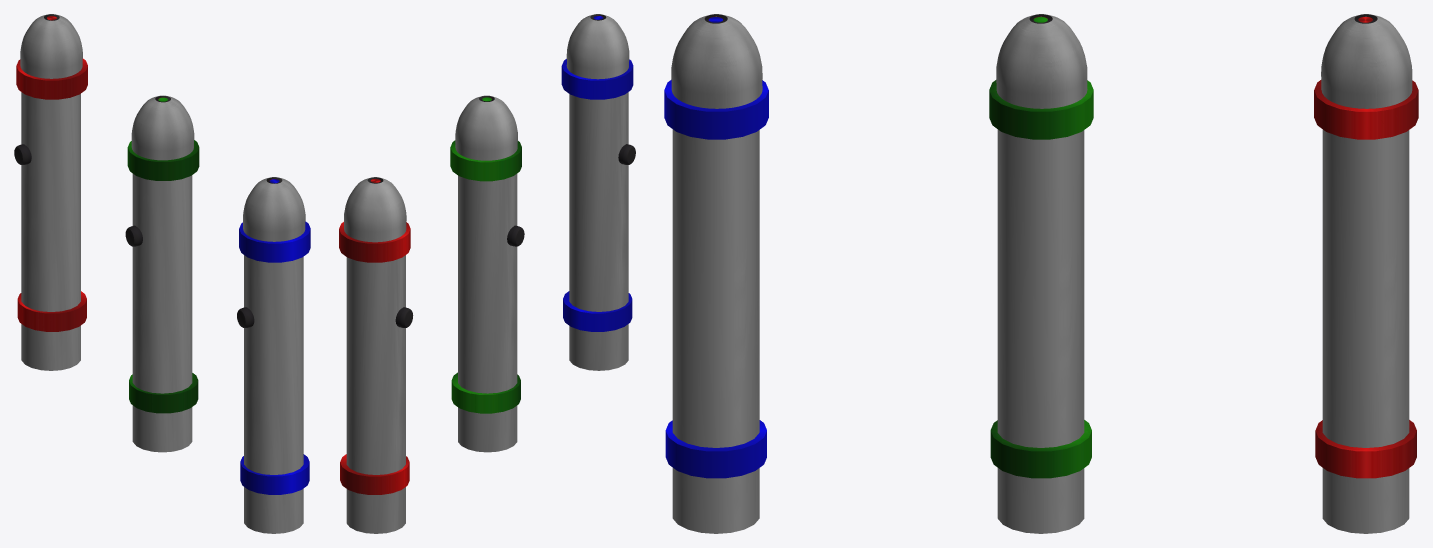
The model's file is lasers juntos.FBX.
The picture shows the model from 3 angles, left to right: view 1: azimuth 30°, elevation 25°; view 2: azimuth 150°, elevation 25°; view 3: azimuth 270°, elevation 25°; orthographic projection. The views are drawn at different scales.
Parts seen in each view (by area): view 1: Laser Cuerpo003, Laser Cuerpo, Laser Cuerpo004, anillo superior, anillo superior003, Anillo inferior, Anillo inferior003; view 2: Laser Cuerpo003, Laser Cuerpo004, Laser Cuerpo, anillo superior, anillo superior003, Anillo inferior003, Anillo inferior; view 3: Laser Cuerpo003, Laser Cuerpo004, Laser Cuerpo, anillo superior003, anillo superior, Anillo inferior, Anillo inferior003.
Part boxes in pixels (x1=…): Laser Cuerpo003: x1=16, y1=14, x2=87, y2=370; Laser Cuerpo: x1=131, y1=95, x2=194, y2=452; Laser Cuerpo004: x1=243, y1=177, x2=305, y2=533; anillo superior: x1=127, y1=140, x2=199, y2=180; anillo superior003: x1=239, y1=221, x2=310, y2=262; Anillo inferior: x1=129, y1=373, x2=198, y2=413; Anillo inferior003: x1=240, y1=454, x2=309, y2=494; Laser Cuerpo003: x1=339, y1=177, x2=410, y2=533; Laser Cuerpo004: x1=566, y1=14, x2=629, y2=370; Laser Cuerpo: x1=455, y1=95, x2=517, y2=452; anillo superior: x1=450, y1=140, x2=521, y2=181; anillo superior003: x1=561, y1=59, x2=633, y2=99; Anillo inferior003: x1=563, y1=291, x2=632, y2=331; Anillo inferior: x1=451, y1=372, x2=520, y2=413; Laser Cuerpo003: x1=1314, y1=14, x2=1418, y2=533; Laser Cuerpo004: x1=671, y1=14, x2=762, y2=533; Laser Cuerpo: x1=996, y1=14, x2=1087, y2=533; anillo superior003: x1=664, y1=80, x2=768, y2=139; anillo superior: x1=989, y1=80, x2=1093, y2=139; Anillo inferior: x1=990, y1=420, x2=1091, y2=478; Anillo inferior003: x1=665, y1=420, x2=766, y2=478.
Bounding box in the file's own units: 7.94 × 39.88 × 54.84.
